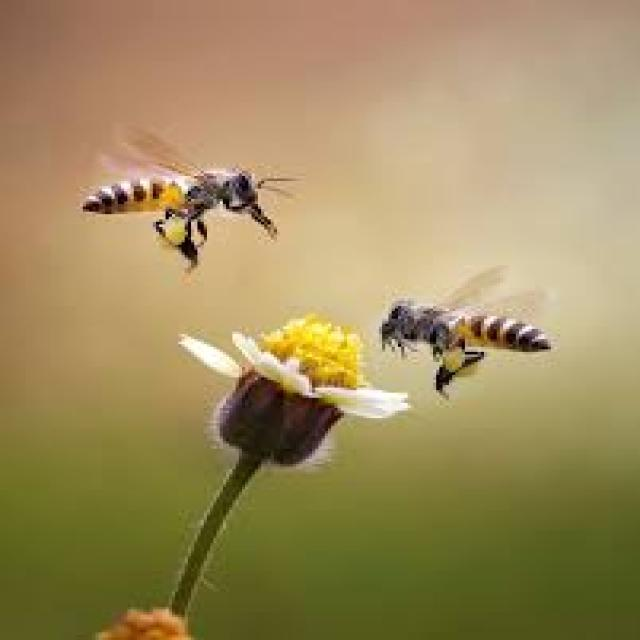Bees: (78, 120, 294, 275), (379, 260, 554, 402)
